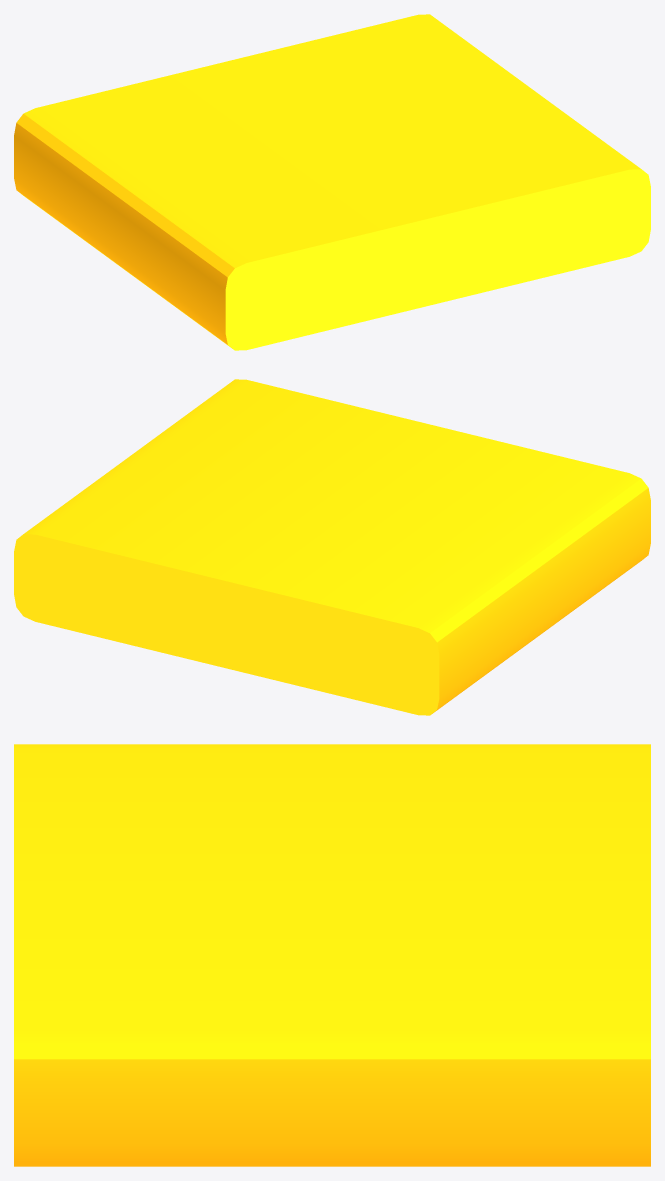
File: 8d264641-9653-4eff-ba87-1252249ed805.glb
3 views of the same model, one above another, from view 1: azimuth 30°, elevation 25°; view 2: azimuth 150°, elevation 25°; view 3: azimuth 270°, elevation 25° (orthographic). The views are drawn at different scales.
Visible parts, largest first — view 1: -_Soul_Yellow; view 2: -_Soul_Yellow; view 3: -_Soul_Yellow.
Boxes of the visible parts, x1,y1,x2,y2 form: -_Soul_Yellow: (14,14,650,350); -_Soul_Yellow: (14,379,650,715); -_Soul_Yellow: (14,744,650,1166).
Size of what is drawn, in the model's own units: 0.0523 by 0.0102 by 0.045.
2 materials, 2 textured.
